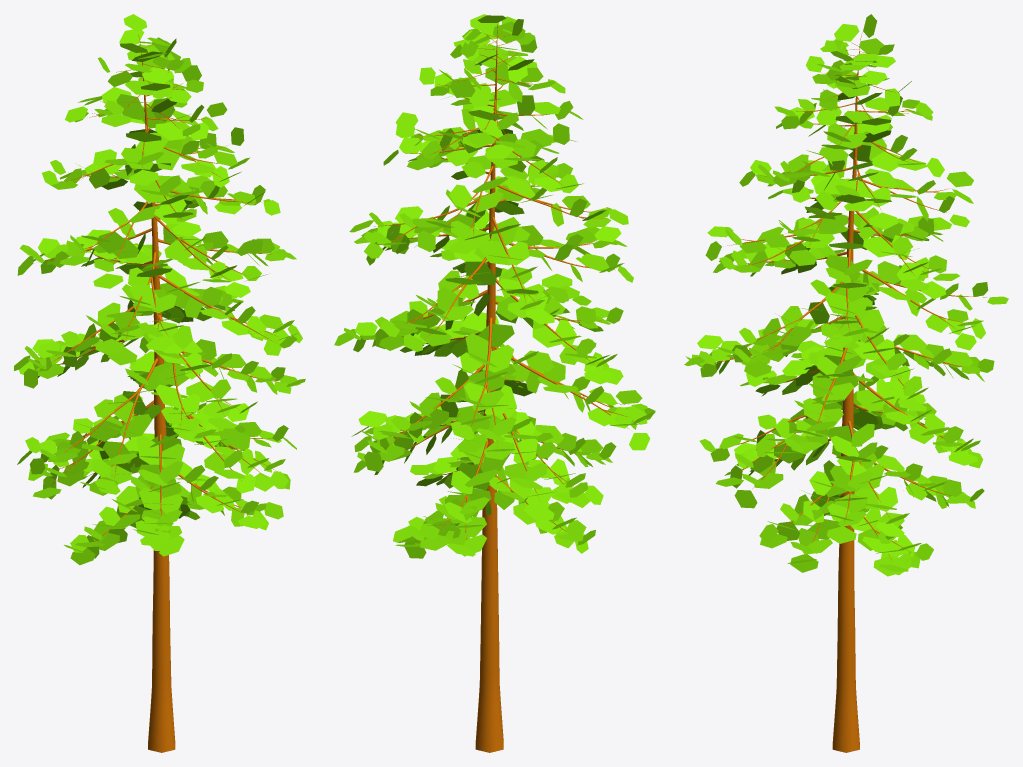
The model's file is Tree.glb.
The picture shows the model from 3 angles, left to right: view 1: azimuth 30°, elevation 25°; view 2: azimuth 150°, elevation 25°; view 3: azimuth 270°, elevation 25°; orthographic projection. The views are drawn at different scales.
Visible parts, largest first — view 1: leaves, tree; view 2: leaves, tree; view 3: leaves, tree.
Boxes of the visible parts, x1,y1,x2,y2 form: leaves: (14, 14, 305, 565); tree: (34, 34, 280, 752); leaves: (334, 14, 655, 558); tree: (372, 24, 629, 752); leaves: (684, 14, 1008, 576); tree: (706, 33, 986, 752).
Bounding box in the file's own units: 7.31 × 18.57 × 7.59.
